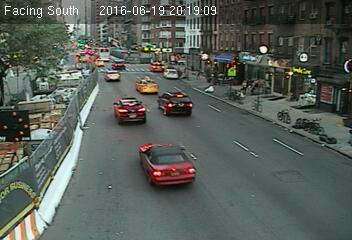neg: (206, 56, 231, 90), (278, 64, 298, 91), (257, 120, 277, 146), (75, 58, 93, 82), (105, 119, 121, 141), (150, 52, 164, 70)
